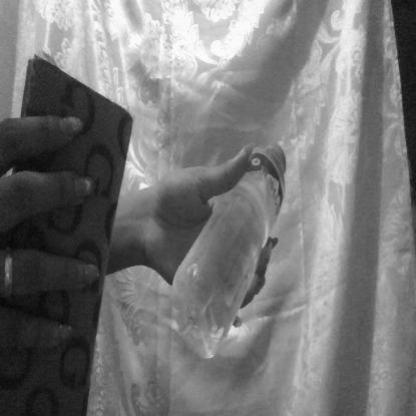Plastic Bottle: (171, 94, 307, 392)
